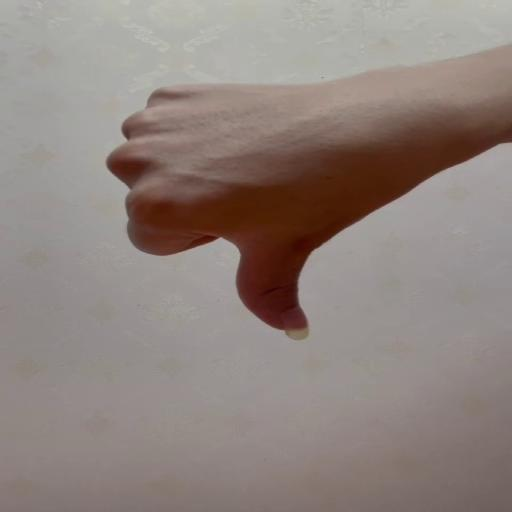thumbs_down: (105, 80, 371, 343)
